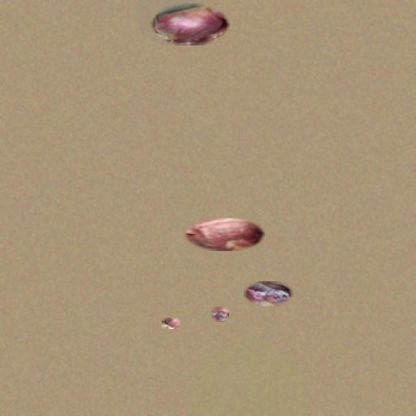healthy: (150, 3, 230, 46)
rotten: (184, 218, 265, 251), (244, 281, 293, 306), (211, 306, 229, 322)
sprouted: (162, 318, 180, 329)
